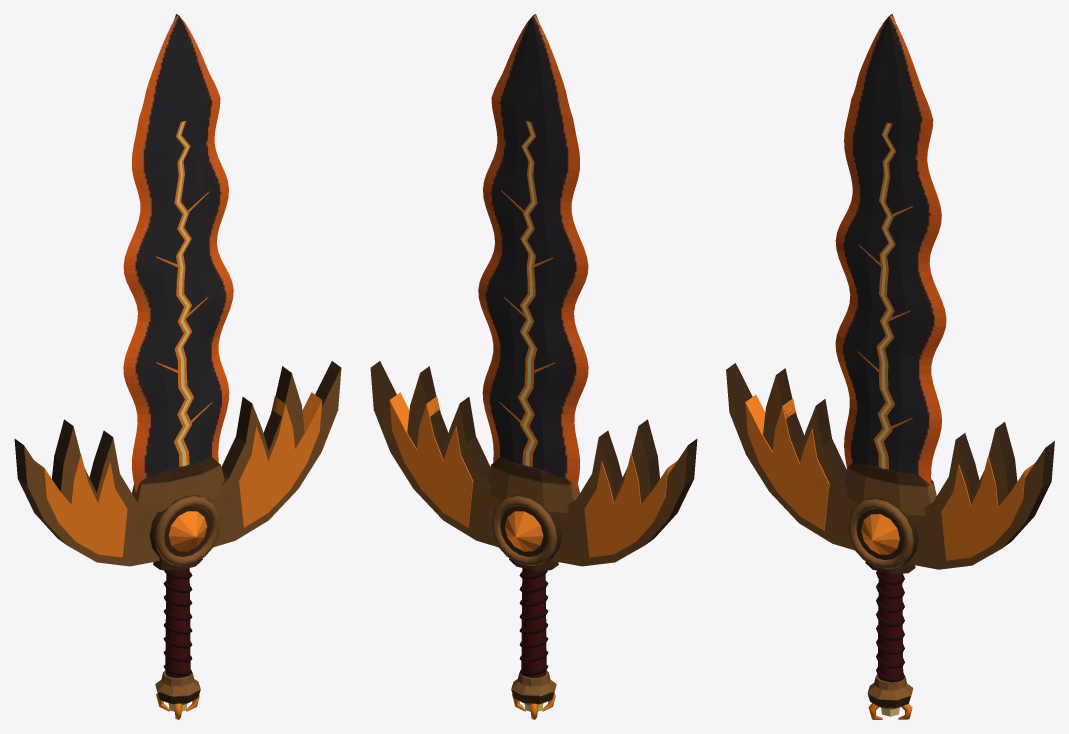
Rendered from hearthbrand.glb.
3 renders of one model, left to right at view 1: azimuth 30°, elevation 25°; view 2: azimuth 150°, elevation 25°; view 3: azimuth 330°, elevation 25°, orthographic.
Visible parts, largest first — view 1: hearthbrand; view 2: hearthbrand; view 3: hearthbrand.
Boxes of the visible parts, left/top/right/bottom form: hearthbrand: left=14, top=14, right=341, bottom=719; hearthbrand: left=370, top=14, right=697, bottom=719; hearthbrand: left=726, top=14, right=1054, bottom=719.
Bounding box in the file's own units: 0.96 × 2.02 × 0.19.
1 material, 1 textured.
